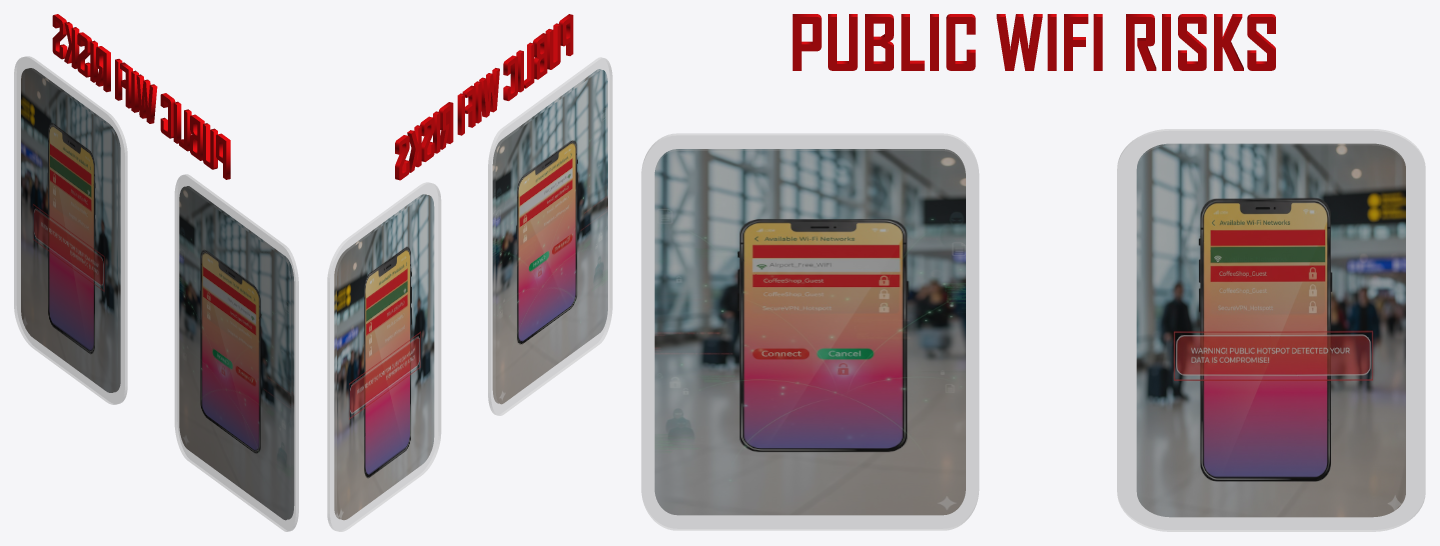
File: public_wifi.glb
The picture shows the model from 3 angles, left to right: view 1: azimuth 30°, elevation 25°; view 2: azimuth 150°, elevation 25°; view 3: azimuth 270°, elevation 25°; orthographic projection. The views are drawn at different scales.
Parts seen in each view (by area): view 1: Plane, Plane.001, Text; view 2: Plane, Plane.001, Text; view 3: Plane, Plane.001, Text.
Part boxes in pixels (<box>): Plane: <box>175,174,298,531</box>; Plane.001: <box>14,56,127,404</box>; Text: <box>52,14,230,179</box>; Plane: <box>488,57,612,415</box>; Plane.001: <box>327,182,440,531</box>; Text: <box>395,14,573,180</box>; Plane: <box>641,133,978,530</box>; Plane.001: <box>1117,129,1425,531</box>; Text: <box>792,14,1275,70</box>.
Bounding box in the file's own units: 0.2055 × 3.93 × 5.52.
5 materials, 2 textured.
